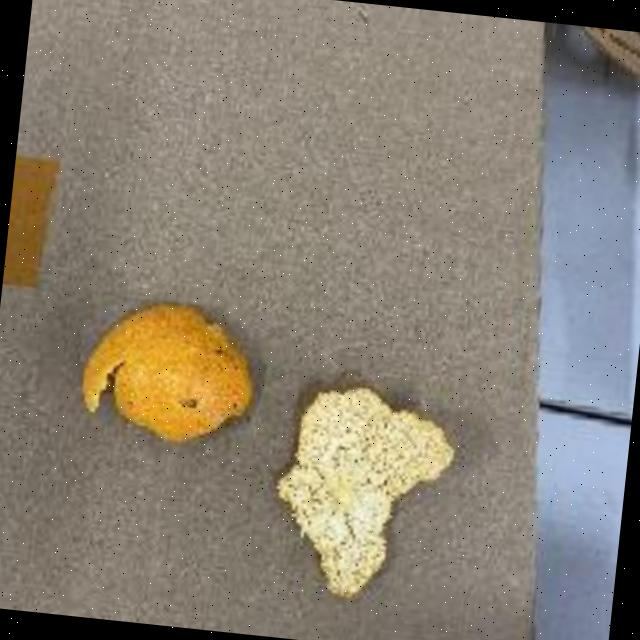orange-peel: (73, 288, 264, 452)
